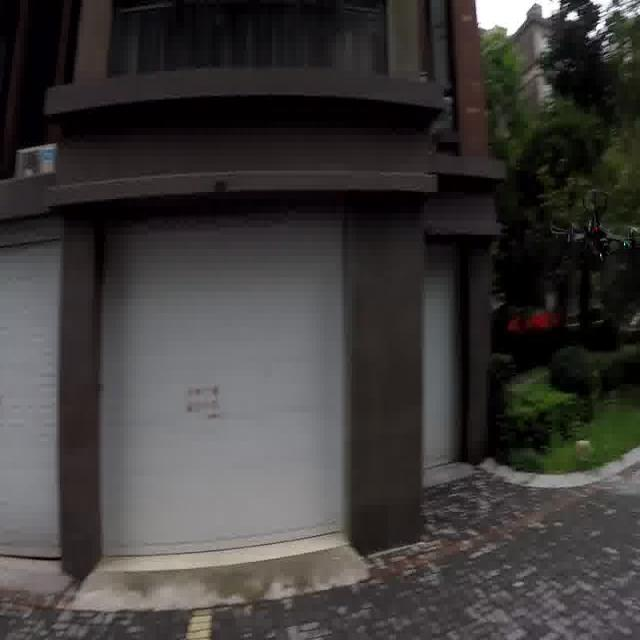drones: (543, 176, 640, 288)
